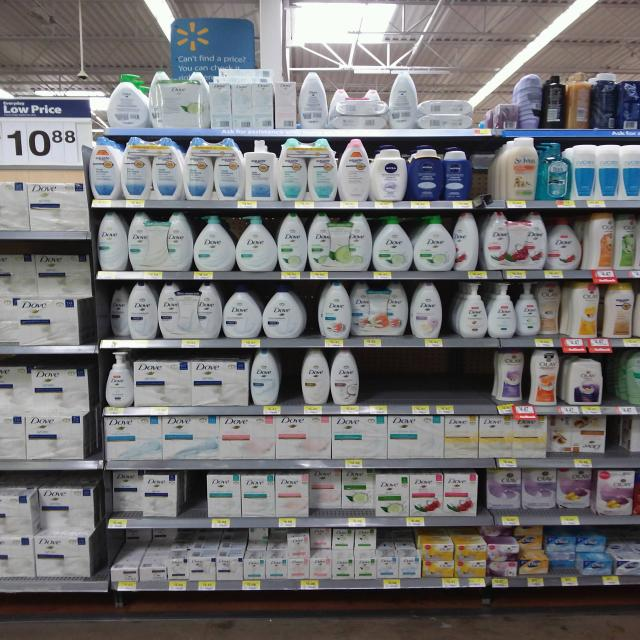empty: (354, 348, 501, 413), (597, 411, 640, 470), (467, 143, 505, 205), (275, 353, 312, 410), (179, 468, 208, 527), (598, 353, 627, 410)
